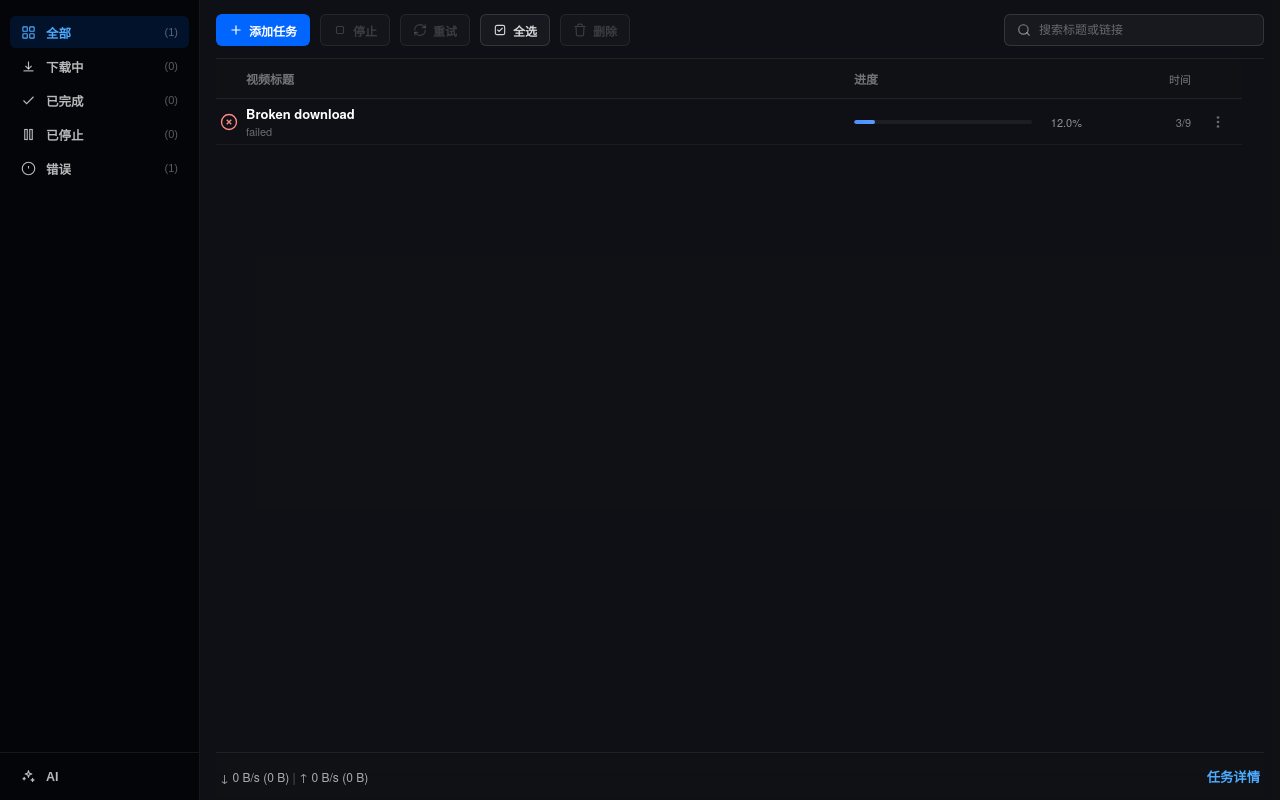
DownloaderApp interactions › selects visible tasks from the current filtered list
Step 1. Click the button "错误 (1)" → x=100, y=168, box [10,152,189,184]
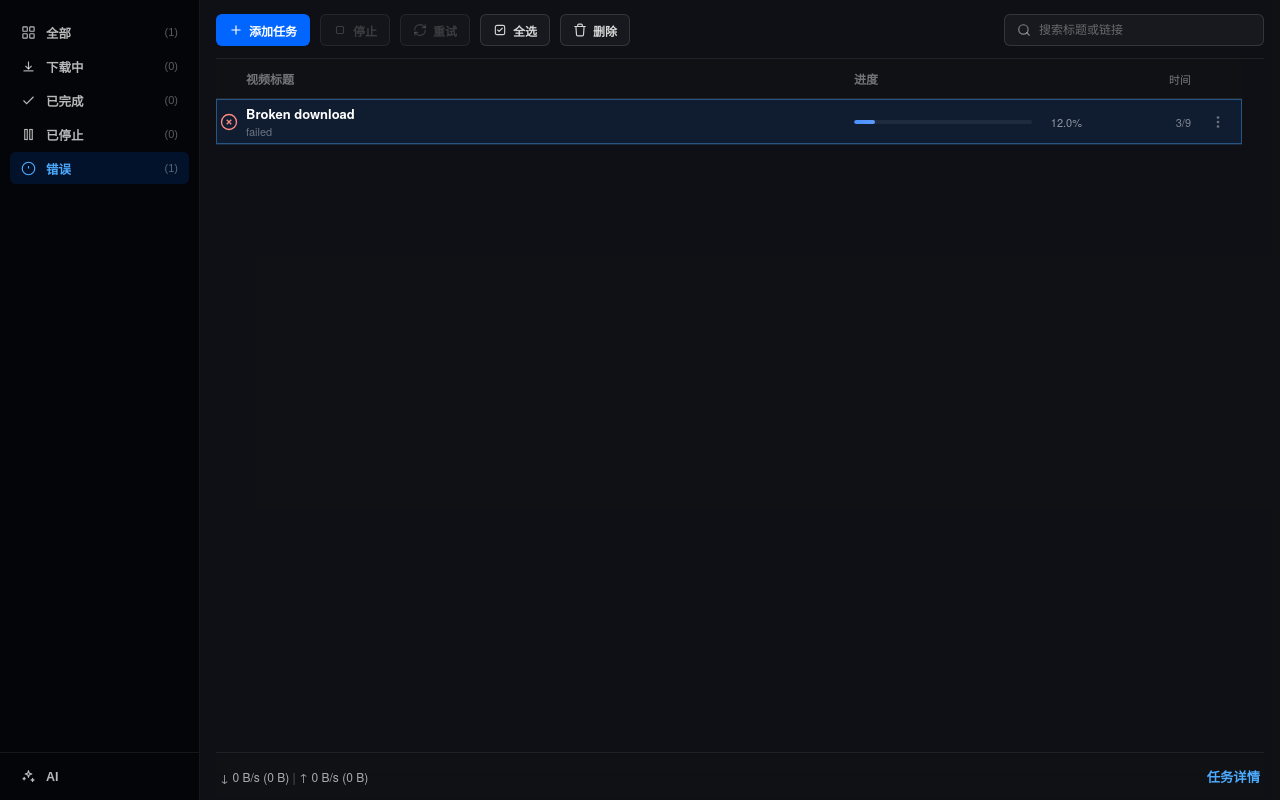
Expected: the text "Broken download" is shown, [246,104,355,123]
Step 2. Click the button with aria-label "select-all-downloads" → x=515, y=30, box [480,14,550,46]
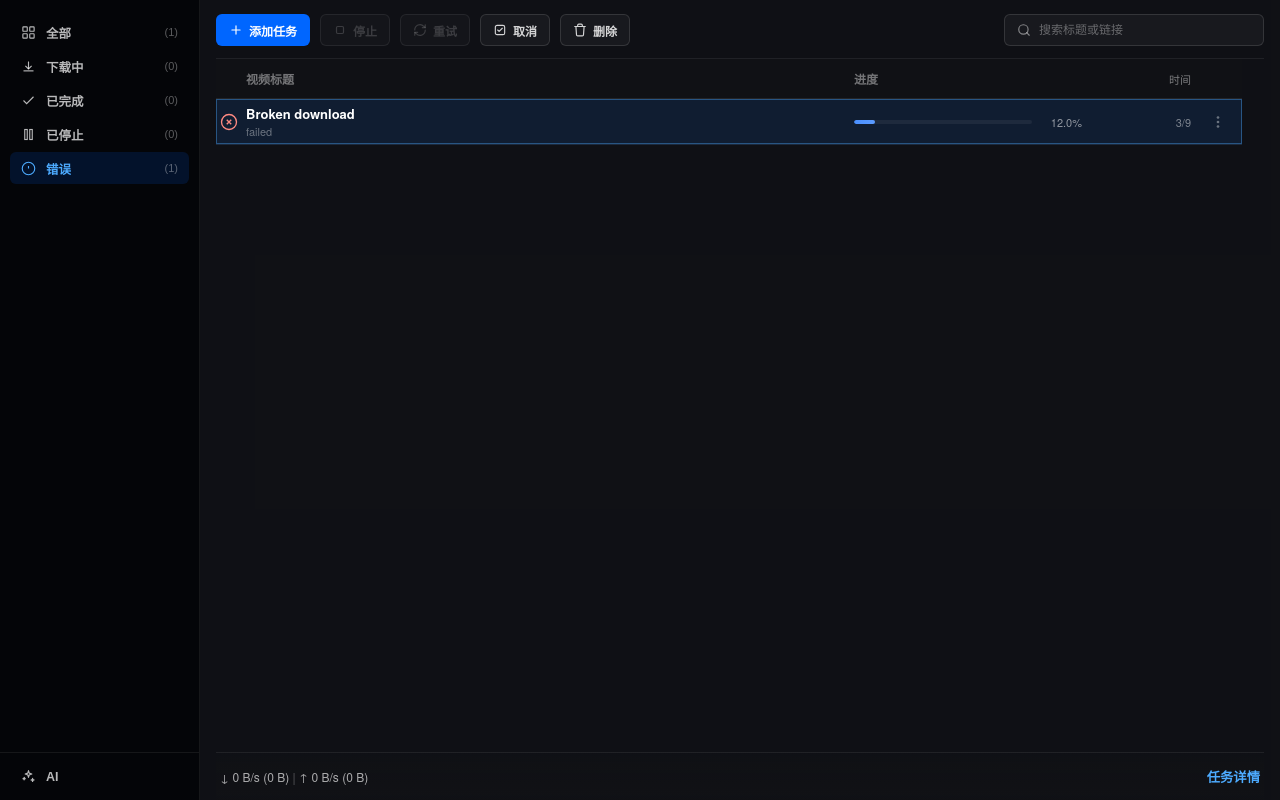
Expected: the button with aria-label "select-all-downloads" reads "取消", [480,14,550,46]
